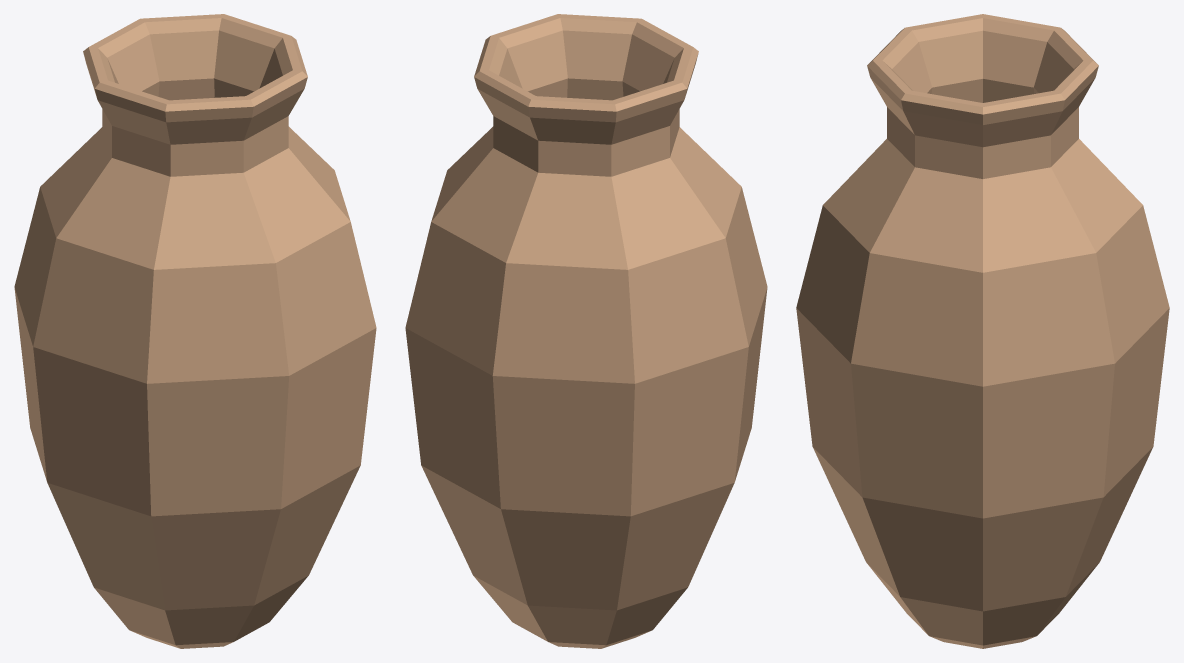
File: Vase1.fbx
The picture shows the model from 3 angles, left to right: view 1: azimuth 30°, elevation 25°; view 2: azimuth 150°, elevation 25°; view 3: azimuth 270°, elevation 25°; orthographic projection.
Visible parts, largest first — view 1: Vase1; view 2: Vase1; view 3: Vase1.
Boxes of the visible parts, x1,y1,x2,y2 form: Vase1: [14, 14, 376, 648]; Vase1: [405, 14, 767, 648]; Vase1: [796, 14, 1169, 648].
Size of the model in its own units: 0.4477 by 0.7469 by 0.4477.
1 material, 1 textured.
